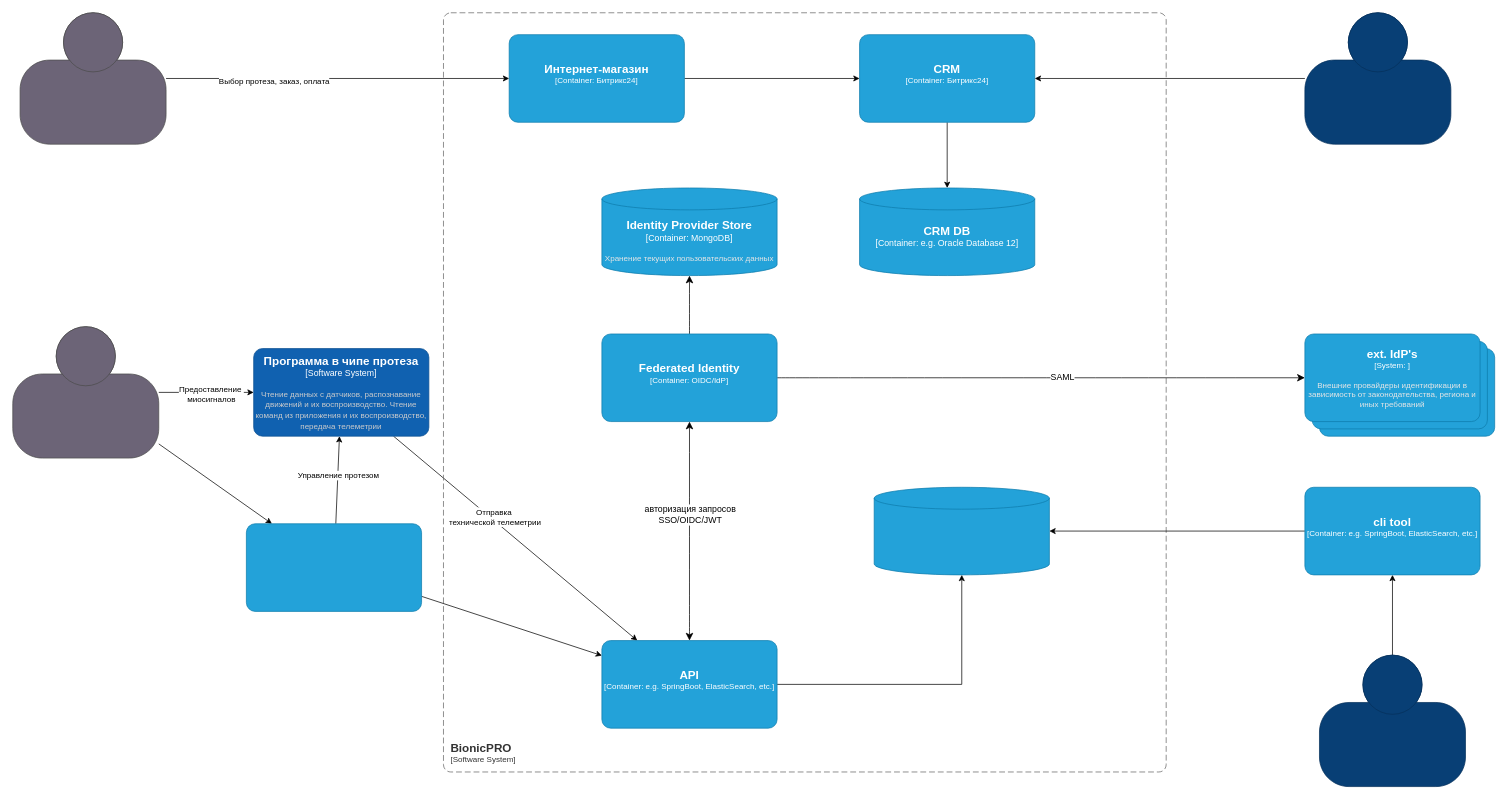
Image size: 1507x799. Some labels were removed from this diagram. The centre of each missing label's shape, as x and y in pixels:
"ML-инженер [Person]" belongs at point 1392,720.
"База данных [Container: PostgreSQL]" belongs at point 961,531.
"Оператор производства [Person]" belongs at point 1377,78.
"Пилот протеза [Person] С этого человека считываются данные" belongs at point 85,392.
"Покупатель протеза [Person]" belongs at point 92,78.
"Приложение для донастройки протеза [Container: iOD, Android]" belongs at point 334,567.
